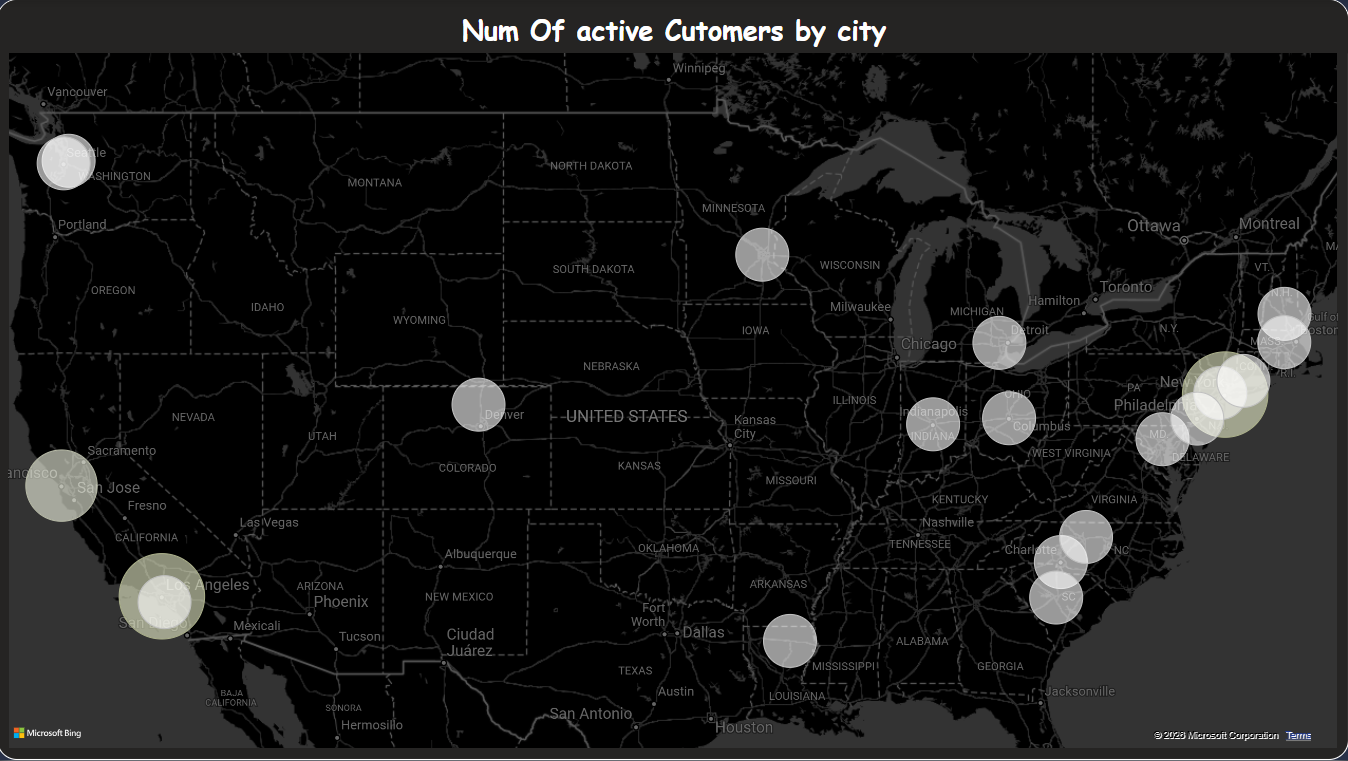

Layout of this report page (visuals, bound fields, positions):
{"tool":"powerbi","page":{"name":"map","canvas":[1280,720],"ordinal":3},"visuals":[{"type":"map","title":"Num Of active Cutomers by city","fields":{"Size":["DaxMeasureas.# active Cutomers"],"Category":["dim_customer.city"]},"box":[0,0,1280,720.4],"z":0}]}

Visuals, with their boxes in screenshot pixels (x1, y1, x2, y2), scaled from the page's 1280x720 canvas onto the 1348x761 screenshot:
"Num Of active Cutomers by city" map: {"x1": 0, "y1": 0, "x2": 1347, "y2": 760}
